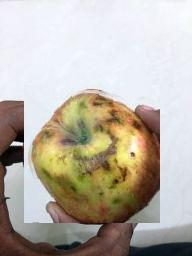Apple Semirotten: (25, 86, 161, 224)
